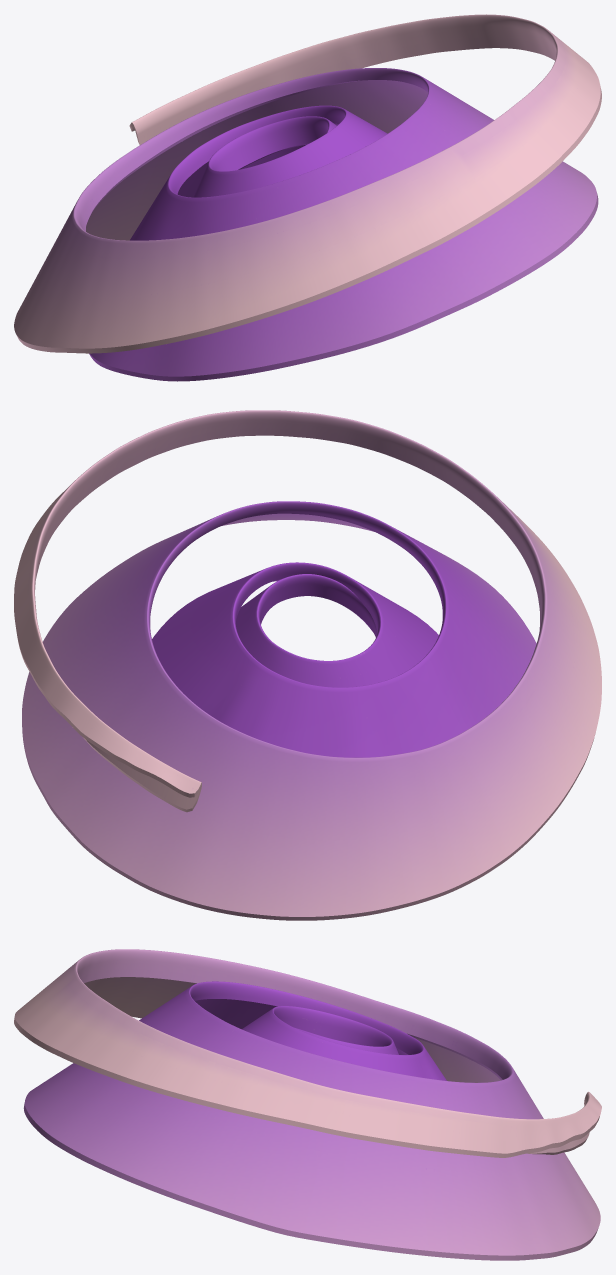
Rendered from O Spiral.gltf.
3 views of the same model, one above another, from view 1: azimuth 30°, elevation 25°; view 2: azimuth 150°, elevation 25°; view 3: azimuth 270°, elevation 25° (orthographic).
Visible parts, largest first — view 1: Plane.006; view 2: Plane.006; view 3: Plane.006.
Part boxes in pixels (left/top/right/bottom): Plane.006: left=14, top=14, right=601, bottom=381; Plane.006: left=14, top=410, right=601, bottom=920; Plane.006: left=14, top=949, right=601, bottom=1260.
Size of the model in its own units: 3.37 by 1.83 by 3.38.
Materials: 1 (1 with a texture image).
